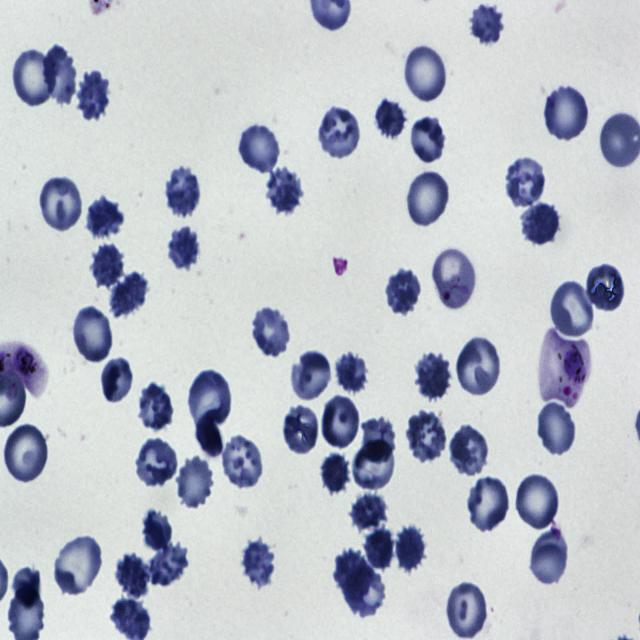red blood cell: (54, 533, 104, 597), (187, 370, 234, 434), (514, 470, 562, 532), (455, 335, 502, 398), (543, 82, 591, 143), (11, 46, 58, 108), (549, 279, 596, 340), (403, 42, 448, 105), (37, 173, 85, 232), (4, 423, 49, 485), (406, 168, 450, 228), (40, 41, 80, 107), (72, 304, 115, 365), (446, 579, 489, 640), (467, 476, 511, 534), (219, 434, 265, 489), (504, 153, 546, 210), (318, 104, 361, 159), (538, 399, 578, 458), (584, 261, 626, 317), (135, 437, 179, 490), (237, 122, 281, 174), (530, 530, 569, 588), (322, 393, 361, 450), (250, 304, 291, 358), (292, 347, 332, 402), (176, 454, 215, 510), (333, 550, 374, 603), (282, 401, 320, 458), (448, 424, 489, 476), (264, 164, 304, 217), (236, 538, 275, 591), (354, 441, 395, 491), (136, 380, 174, 433), (405, 412, 445, 462), (414, 349, 452, 401), (163, 165, 201, 217), (520, 200, 562, 247), (383, 267, 422, 317), (343, 570, 385, 616), (410, 113, 447, 165), (98, 354, 136, 404), (164, 224, 202, 274), (146, 543, 190, 586), (72, 72, 111, 120), (395, 520, 428, 576), (114, 552, 151, 601), (89, 242, 125, 290), (360, 417, 397, 463), (86, 195, 124, 238), (350, 493, 389, 533), (111, 275, 151, 313), (332, 350, 368, 392), (471, 4, 505, 46), (362, 530, 398, 569), (374, 98, 407, 140), (12, 566, 41, 611), (320, 452, 351, 494), (142, 509, 172, 552)
ring: (431, 243, 477, 312)
trophozoite: (538, 332, 591, 406)
